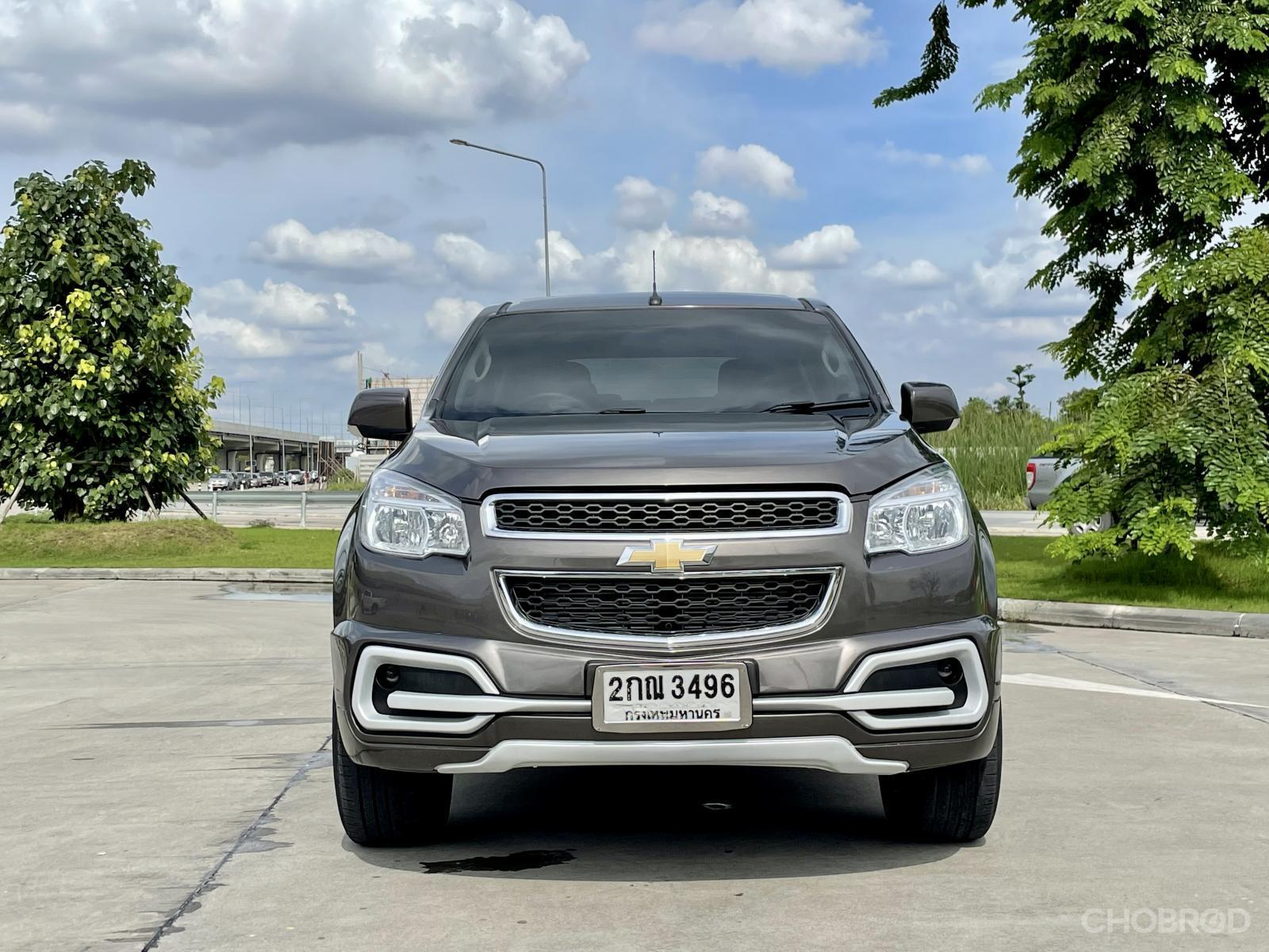license-plate: (587, 662, 760, 733)
